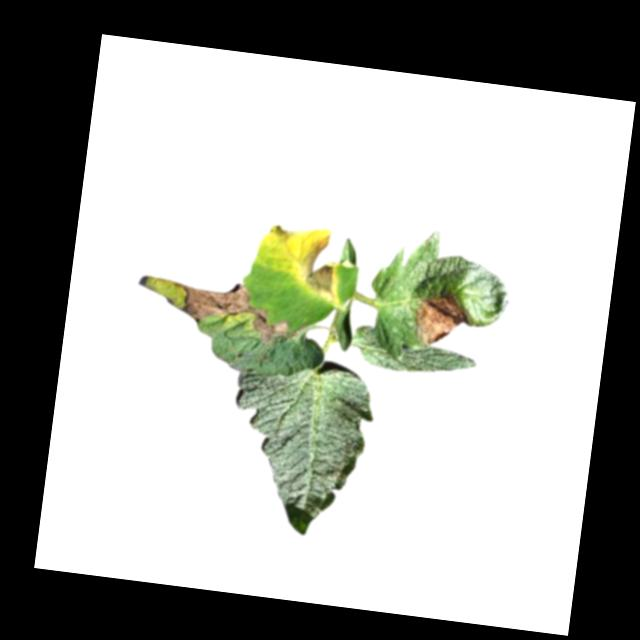Late_blight: (167, 275, 301, 347), (292, 225, 347, 305), (412, 290, 472, 349), (259, 220, 303, 250)
healthy: (219, 357, 378, 542), (348, 323, 482, 382)
